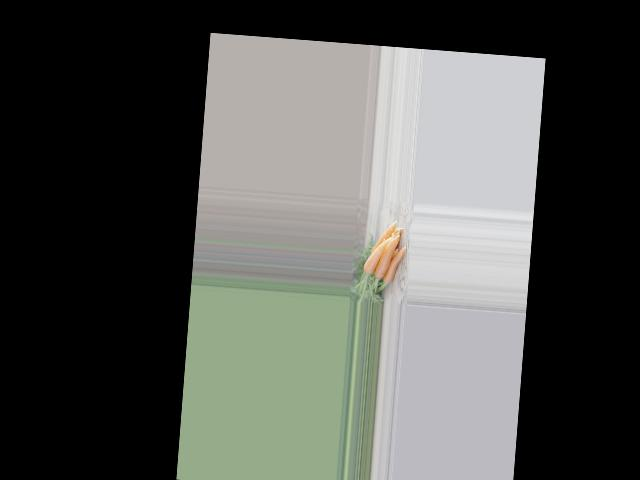carrot: (383, 243, 403, 289)
